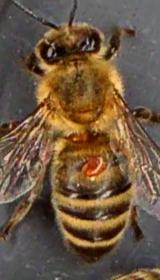varroa_mite: (71, 148, 115, 180)
